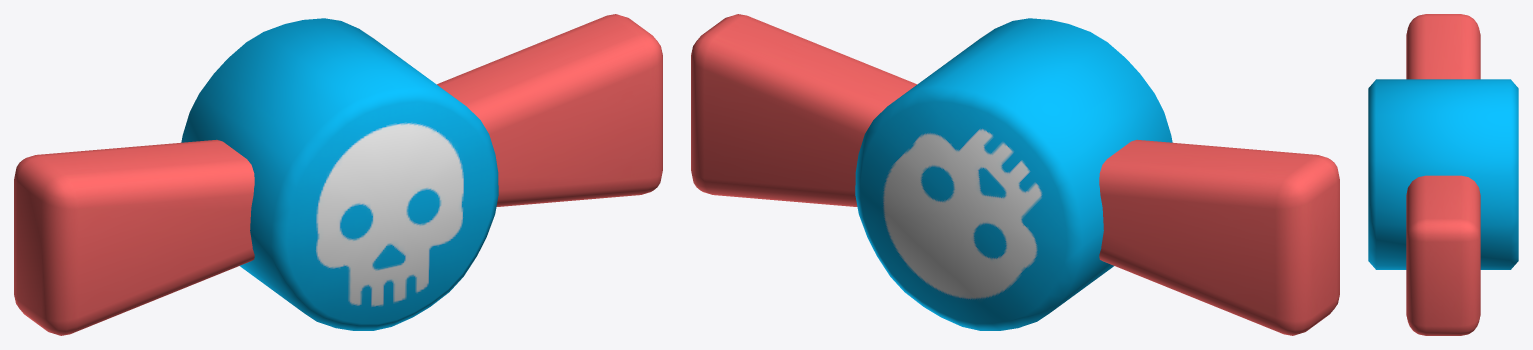
The model's file is rotate_small_horizontal_2_0.FBX.
3 renders of one model, left to right at view 1: azimuth 30°, elevation 25°; view 2: azimuth 150°, elevation 25°; view 3: azimuth 270°, elevation 25°, orthographic. The views are drawn at different scales.
Visible parts, largest first — view 1: rotate_small_horizontal_2_0; view 2: rotate_small_horizontal_2_0; view 3: rotate_small_horizontal_2_0.
Boxes of the visible parts, <box> form: rotate_small_horizontal_2_0: <box>14,14,662,335</box>; rotate_small_horizontal_2_0: <box>691,14,1339,335</box>; rotate_small_horizontal_2_0: <box>1368,14,1518,335</box>.
Bounding box in the file's own units: 4 × 1.47 × 1.16.
Materials: 1 (1 with a texture image).
